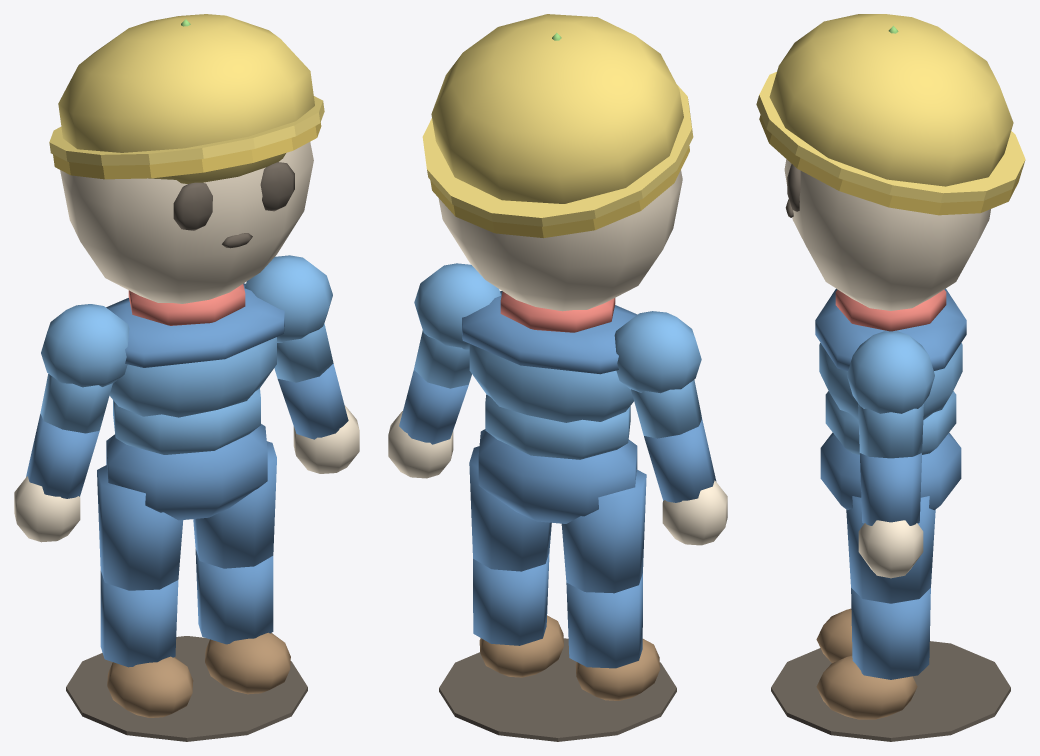
The model's file is player.fbx.
The picture shows the model from 3 angles, left to right: view 1: azimuth 30°, elevation 25°; view 2: azimuth 150°, elevation 25°; view 3: azimuth 270°, elevation 25°; orthographic projection.
Visible parts, largest first — view 1: Part_HatCrown, Part_Head, Part_Shadow, Part_Hips, Part_Chest, Part_Thigh_R, Part_Mantle, Part_Shoulder_R, Part_Calf_R, Part_Calf_L, Part_Belly, Part_Thigh_L (+14 smaller); view 2: Part_HatCrown, Part_Head, Part_Shadow, Part_Hips, Part_Chest, Part_HatBrim, Part_Thigh_R, Part_Mantle, Part_Shoulder_R, Part_Calf_R, Part_Calf_L, Part_Belly (+12 smaller); view 3: Part_HatCrown, Part_Head, Part_Shadow, Part_Calf_L, Part_HatBrim, Part_Shoulder_L, Part_Mantle, Part_Hips, Part_Thigh_L, Part_Foot_L, Part_LowerArm_L, Part_HatBand (+7 smaller).
Part boxes in pixels (x1,y1,x2,y2): Part_HatCrown: (58, 14, 314, 183); Part_Head: (60, 142, 313, 303); Part_Shadow: (66, 636, 307, 741); Part_Hips: (106, 424, 267, 520); Part_Chest: (109, 337, 276, 417); Part_Thigh_R: (97, 465, 183, 590); Part_Mantle: (106, 283, 284, 367); Part_Shoulder_R: (41, 304, 129, 387); Part_Calf_R: (100, 571, 178, 667); Part_Calf_L: (195, 549, 273, 644); Part_Belly: (113, 388, 260, 454); Part_Thigh_L: (193, 441, 276, 568); Part_HatCrown: (431, 14, 683, 203); Part_Head: (438, 170, 682, 311); Part_Shadow: (439, 638, 676, 741); Part_Hips: (478, 429, 637, 523); Part_Chest: (469, 344, 633, 422); Part_HatBrim: (422, 85, 693, 226); Part_Thigh_R: (561, 469, 646, 593); Part_Mantle: (462, 291, 637, 374); Part_Shoulder_R: (614, 311, 701, 393); Part_Calf_R: (566, 573, 642, 668); Part_Calf_L: (473, 551, 549, 645); Part_Belly: (485, 394, 630, 459); Part_HatCrown: (769, 14, 1013, 186); Part_Head: (784, 159, 990, 310); Part_Shadow: (771, 641, 1010, 741); Part_Calf_L: (851, 588, 930, 679); Part_HatBrim: (756, 72, 1025, 202); Part_Shoulder_L: (847, 331, 934, 413); Part_Mantle: (815, 288, 966, 370); Part_Hips: (820, 432, 961, 510); Part_Thigh_L: (846, 496, 935, 603); Part_Foot_L: (816, 655, 917, 719); Part_LowerArm_L: (860, 453, 921, 525); Part_HatBand: (759, 115, 1021, 215).
Bounding box in the file's own units: 97.5 × 184 × 67.37.
